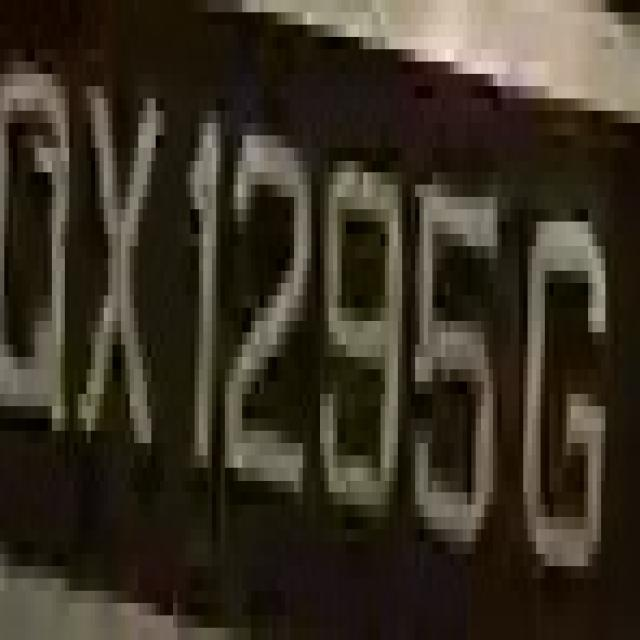1: (190, 86, 225, 505)
2: (221, 99, 307, 542)
5: (406, 160, 502, 566)
9: (312, 110, 406, 542)
G: (514, 197, 618, 591)
Q: (4, 62, 78, 480)
X: (70, 61, 164, 492)
